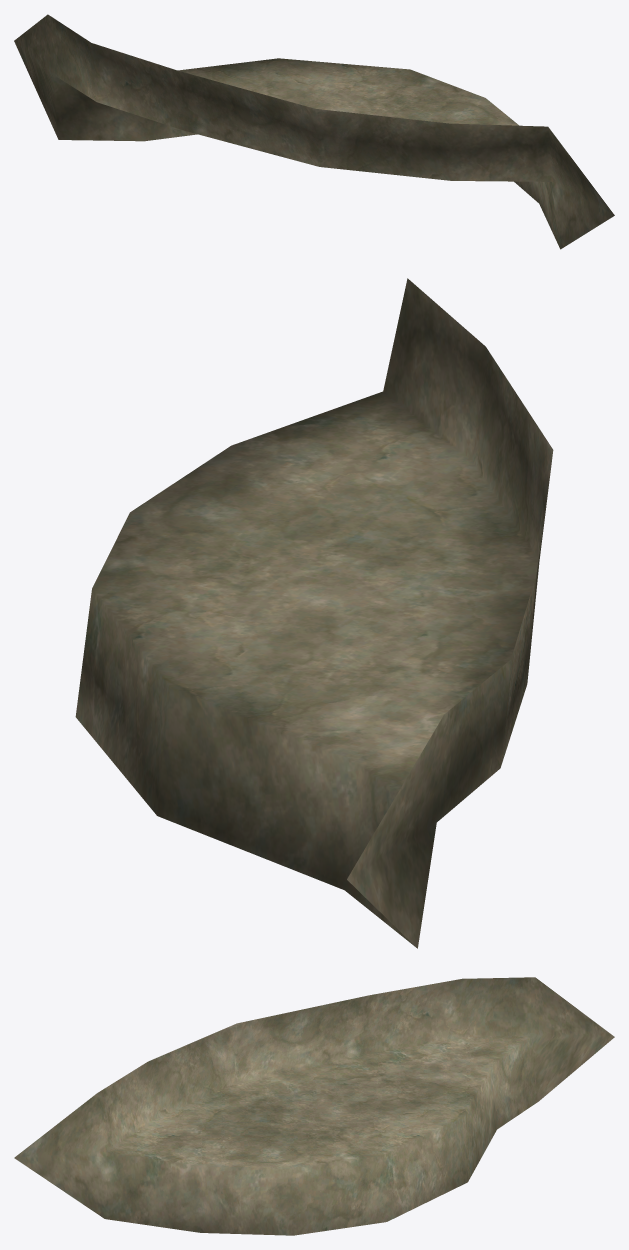
File: OVERHILL_A_01_OBJECT214.fbx
3 renders of one model, top to bottom at view 1: azimuth 30°, elevation 25°; view 2: azimuth 150°, elevation 25°; view 3: azimuth 270°, elevation 25°, orthographic. The views are drawn at different scales.
Visible parts, largest first — view 1: OVERHILL_A_01_OBJECT214; view 2: OVERHILL_A_01_OBJECT214; view 3: OVERHILL_A_01_OBJECT214.
Part boxes in pixels (x1,y1,x2,y2): OVERHILL_A_01_OBJECT214: [14, 14, 614, 249]; OVERHILL_A_01_OBJECT214: [75, 278, 553, 948]; OVERHILL_A_01_OBJECT214: [14, 977, 614, 1235].
Bounding box in the file's own units: 27009 × 10688 × 49066.
1 material, 1 textured.
